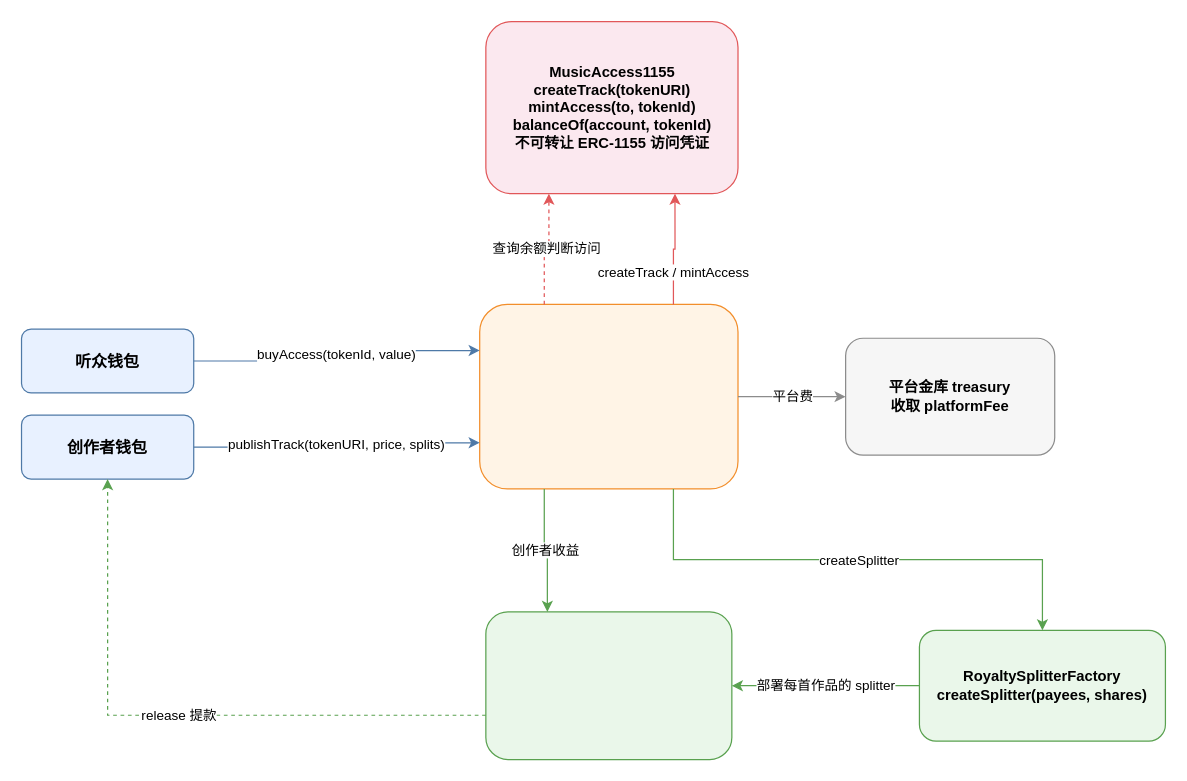
The diagram is 1187 pixels wide and 781 high, and some of its shapes have lost their labels. Here are the shapes that lost their labels. From the top down, the centre of each, then its label:
At (x=608, y=396): "PlatformHub publishTrack buyAccess hasAccess getTrackSaleConfig 平台费与销售配置".
At (x=608, y=685): "RoyaltySplitter receive ETH releasable(account) release(account) 按固定份额分账".
